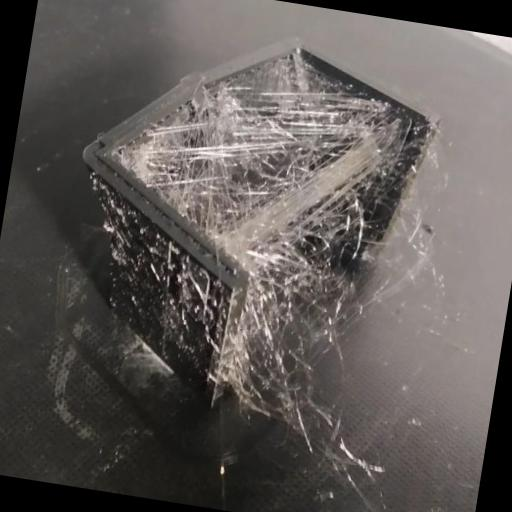stringing: (227, 208, 357, 431), (164, 65, 332, 217)
